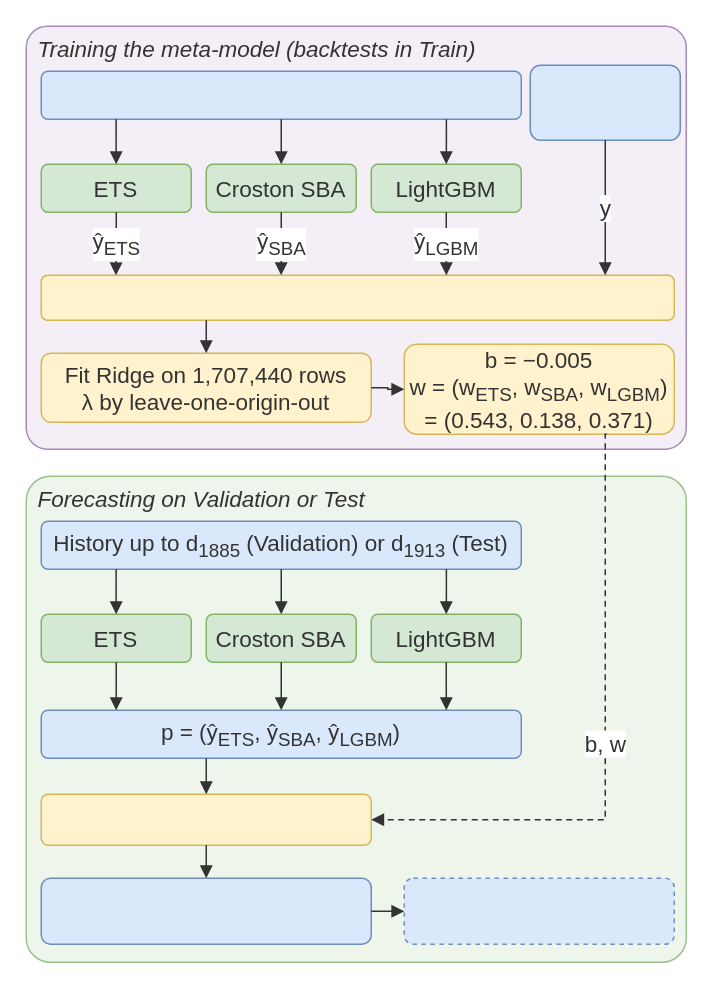
This 713x989 diagram has some shape labels left out. The centre of each missing label's shape, as x and y in pixels:
Actual y T j +1 … T j +28: point (604, 102)
Fitted Ridge: point (205, 819)
History up to origin T j ∈ {d 1829 , d 1857 }: point (280, 94)
Join by series and target day: point (357, 297)
Scored against actual y (evaluation only): point (538, 910)
ŷ(T+h) = max(0, b + wᵀp): point (205, 910)
